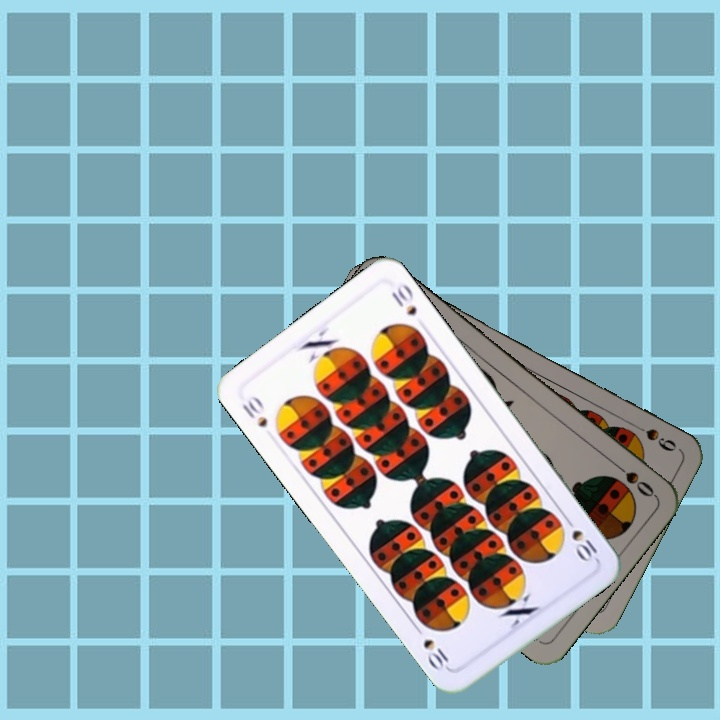S10: (560, 512, 600, 565), (237, 391, 270, 430)
S9: (638, 424, 679, 454)
SO: (607, 457, 657, 500)
